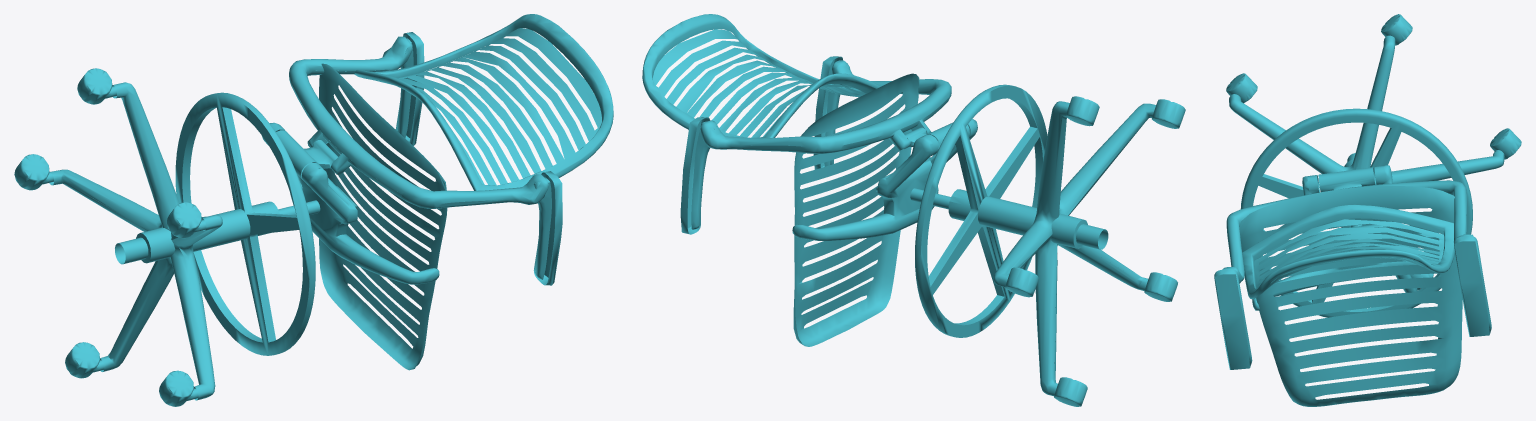
3 renders of one model, left to right at view 1: azimuth 30°, elevation 25°; view 2: azimuth 150°, elevation 25°; view 3: azimuth 270°, elevation 25°, orthographic. The views are drawn at different scales.
Visible parts, largest first — view 1: Renderer Node; view 2: Renderer Node; view 3: Renderer Node.
Boxes of the visible parts, x1=… form: Renderer Node: x1=14, y1=14, x2=613, y2=406; Renderer Node: x1=642, y1=14, x2=1185, y2=406; Renderer Node: x1=1214, y1=14, x2=1521, y2=406.
Bounding box in the file's own units: 0.7276 × 0.4866 × 0.4836.
1 material, 1 textured.
